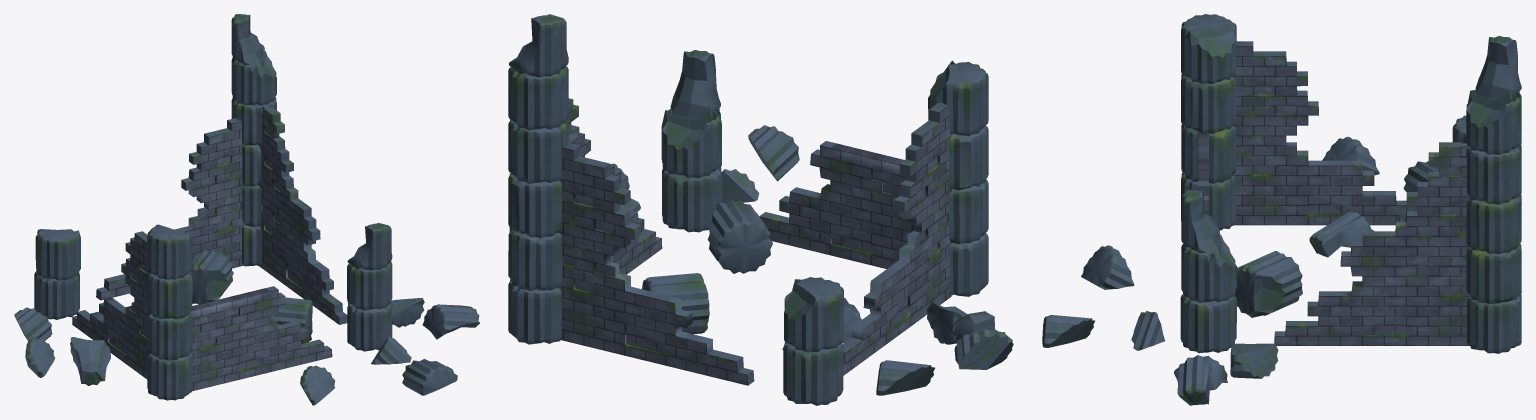
File: square_wall_1.obj
3 views of the same model, side by side, from view 1: azimuth 30°, elevation 25°; view 2: azimuth 150°, elevation 25°; view 3: azimuth 270°, elevation 25° (orthographic). The views are drawn at different scales.
Visible parts, largest first — view 1: Pillar10_Material.001_0, Walls10_Estructura1_0; view 2: Pillar10_Material.001_0, Walls10_Estructura1_0; view 3: Pillar10_Material.001_0, Walls10_Estructura1_0.
Boxes of the visible parts, <box> form: Pillar10_Material.001_0: <box>14,14,479,405</box>; Walls10_Estructura1_0: <box>72,104,347,391</box>; Pillar10_Material.001_0: <box>508,14,1013,405</box>; Walls10_Estructura1_0: <box>558,98,951,385</box>; Pillar10_Material.001_0: <box>1042,14,1521,405</box>; Walls10_Estructura1_0: <box>1197,41,1470,345</box>.
Size of the model in its own units: 5.12 by 3.05 by 4.37.
